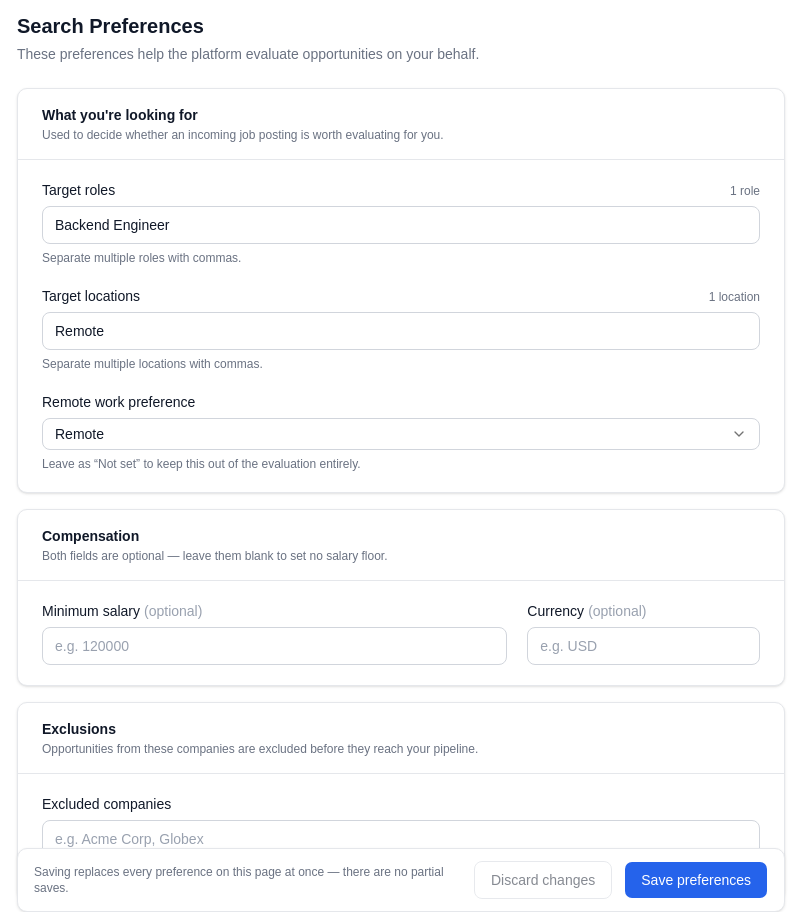
it: SettingsPage › keeps every other entered value when one field fails validation
Type ", Staff Engineer" into the field labelled "Target roles" at (401, 225), box top-left (42, 206), bottom-right (760, 244)
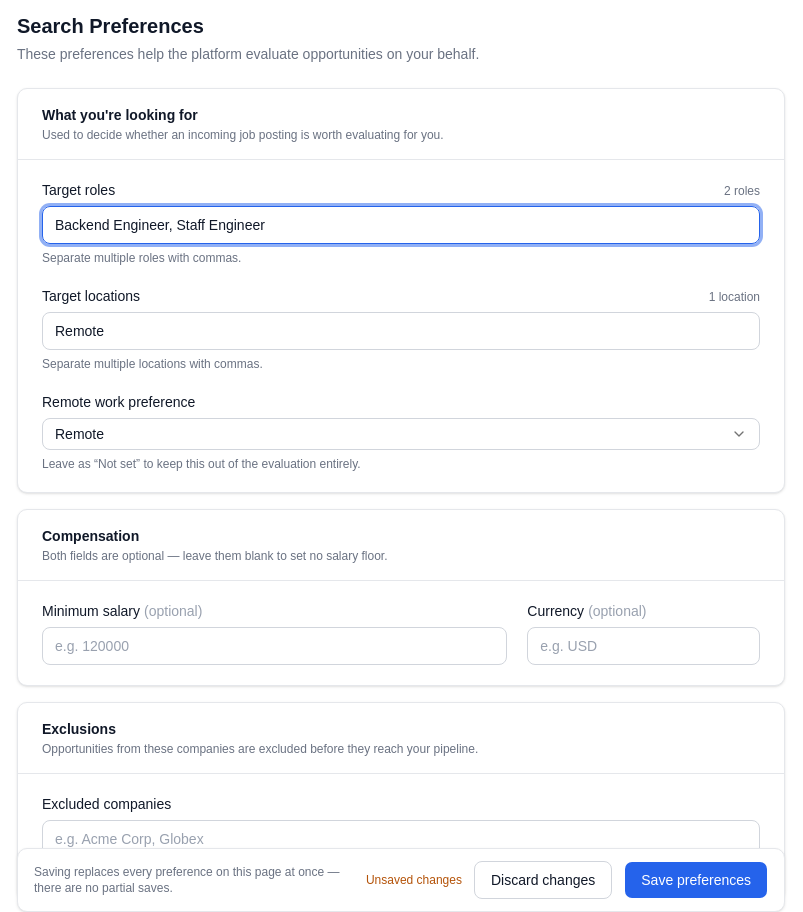
Type "Acme Corp" into the field labelled "Excluded companies" at (401, 839), box top-left (42, 820), bottom-right (760, 858)
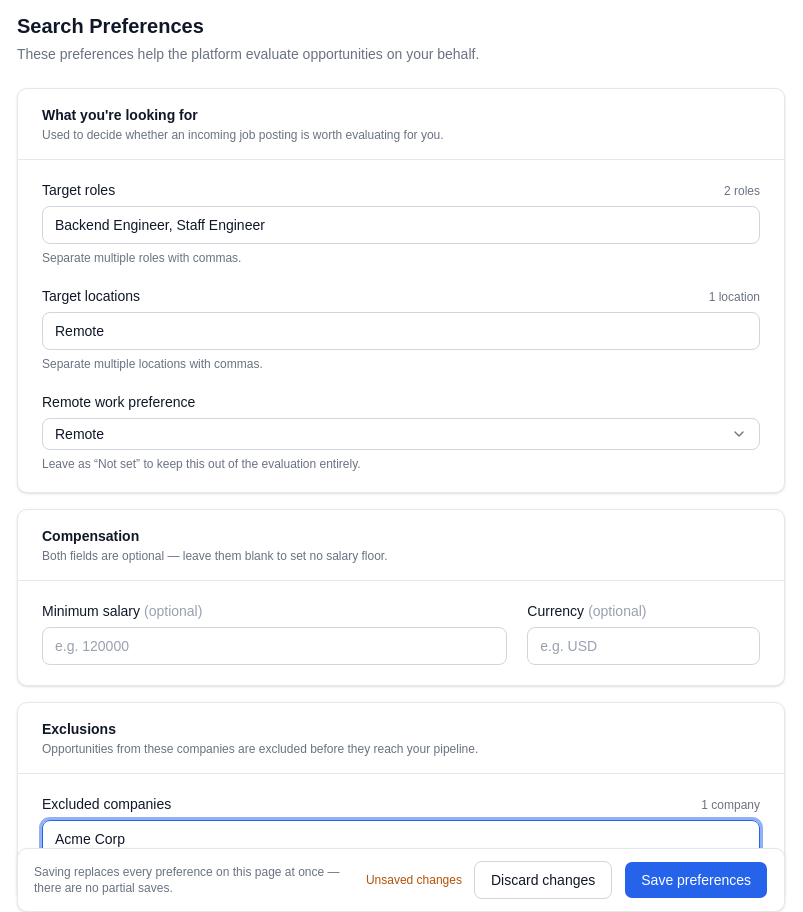
Type "not-a-number" into the field labelled "Minimum salary(optional)" at (275, 646), box top-left (42, 627), bottom-right (507, 665)
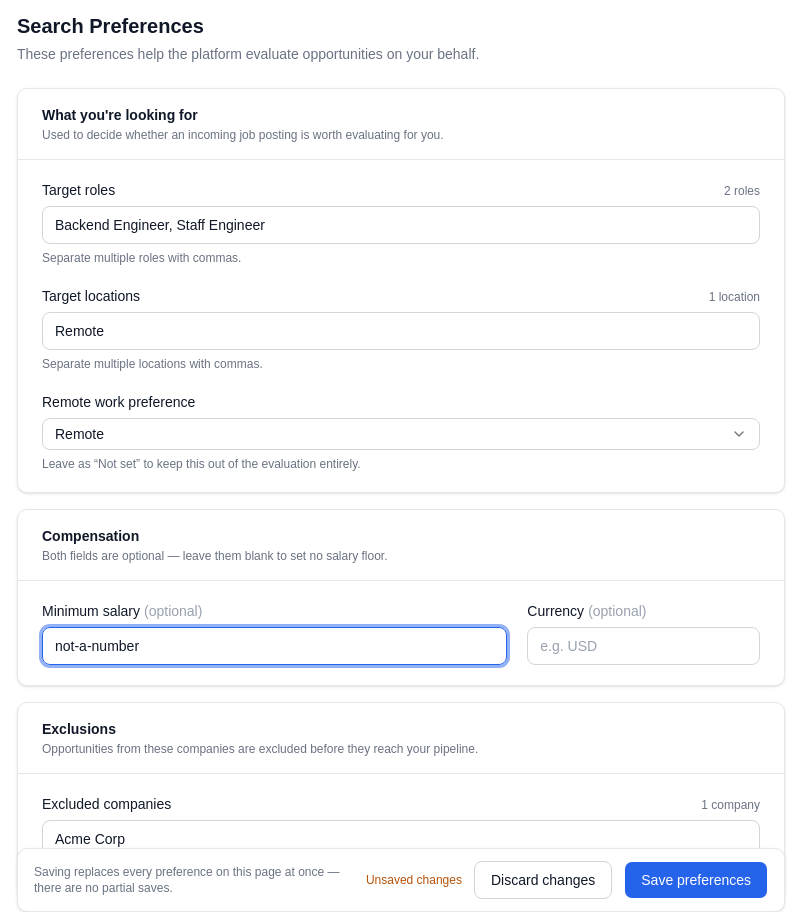
Click the button "Save preferences" at (696, 880), box top-left (624, 861), bottom-right (768, 899)
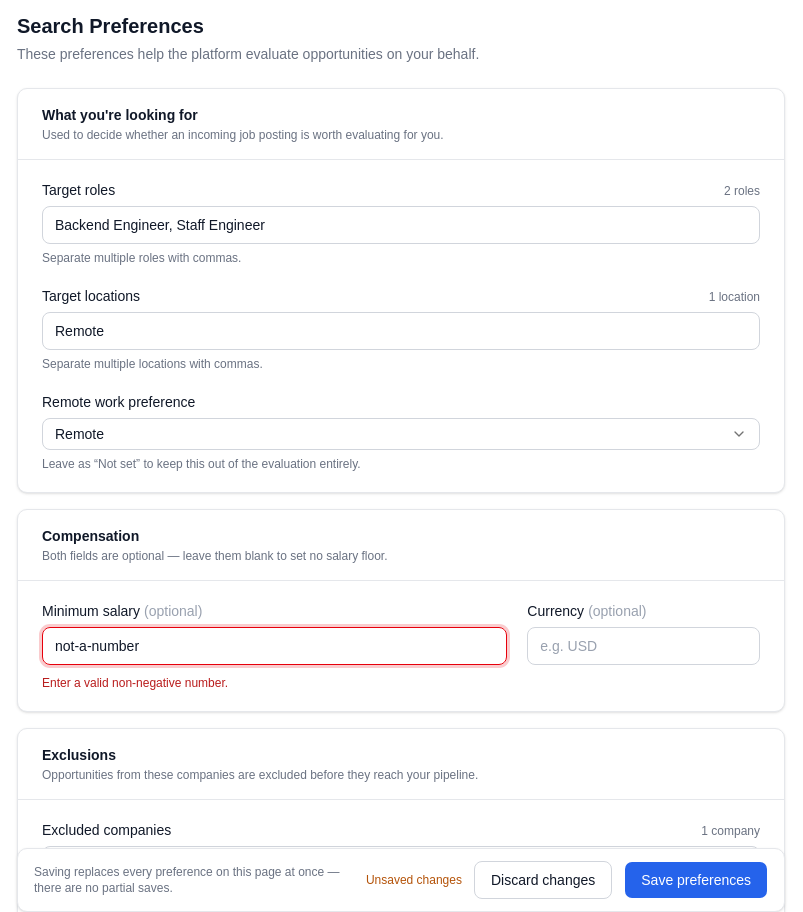
Expected: the field labelled "Target roles" holds "Backend Engineer, Staff Engineer", top-left (42, 206), bottom-right (760, 244)
Expected: the text "Enter a valid non-negative number." is shown, top-left (42, 676), bottom-right (228, 690)
